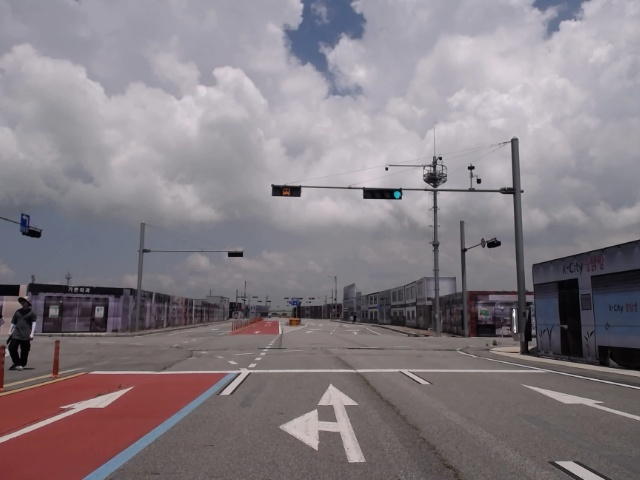straight_green_4: (365, 187, 400, 200)
